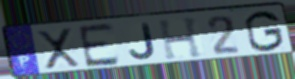2: (207, 14, 242, 56)
E: (76, 21, 122, 70)
G: (243, 9, 286, 53)
H: (156, 15, 206, 61)
J: (128, 22, 158, 62)
X: (34, 26, 83, 72)
